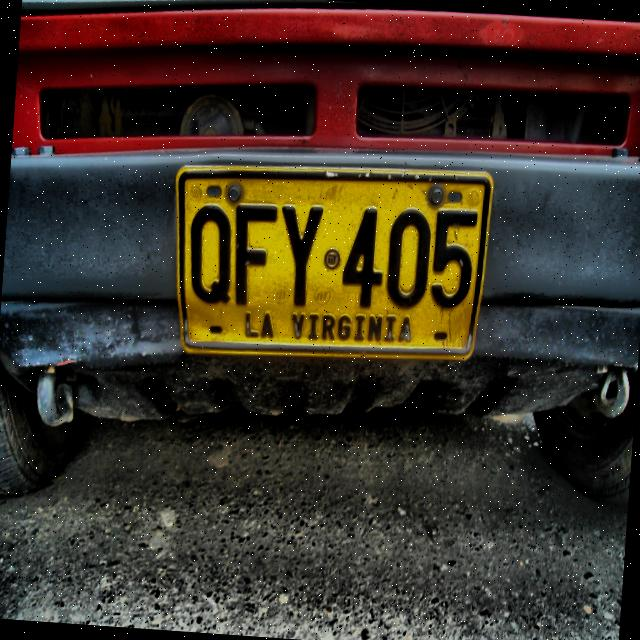0: (384, 208, 432, 314)
4: (336, 206, 389, 312)
5: (428, 208, 480, 315)
F: (233, 200, 278, 311)
Q: (190, 203, 233, 308)
Y: (280, 199, 329, 312)
